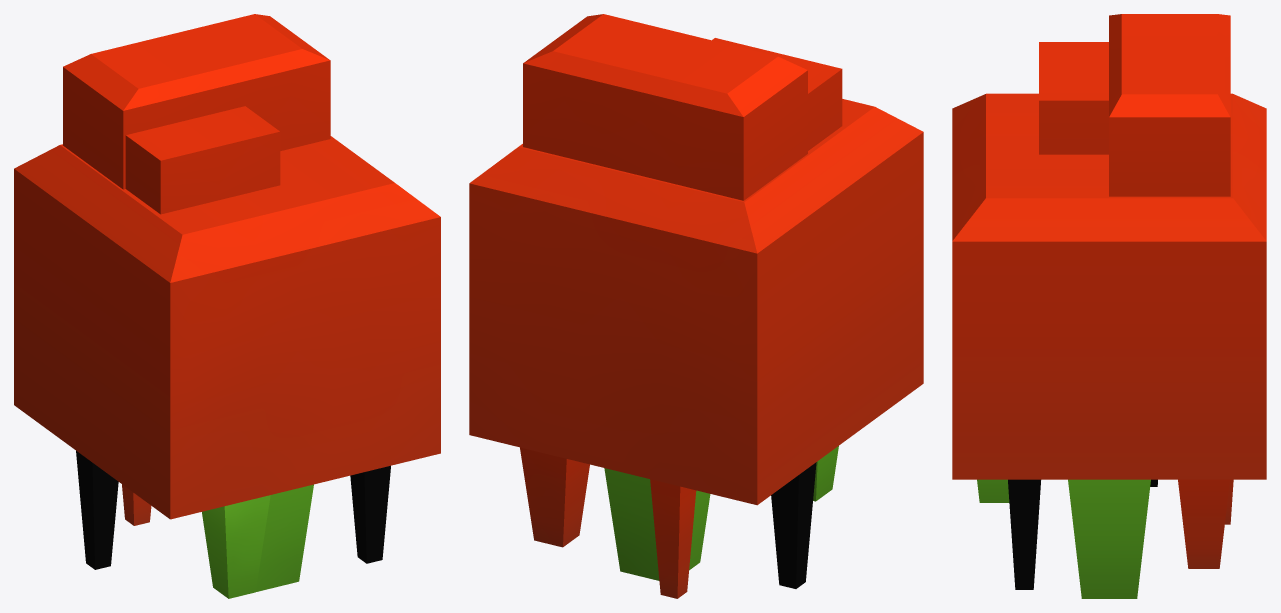
The model's file is Boss(2)Puñetazo.fbx.
The picture shows the model from 3 angles, left to right: view 1: azimuth 30°, elevation 25°; view 2: azimuth 150°, elevation 25°; view 3: azimuth 270°, elevation 25°; orthographic projection. The views are drawn at different scales.
Visible parts, largest first — view 1: Cube; view 2: Cube; view 3: Cube.
Boxes of the visible parts, <box> form: Cube: <box>14,14,440,598</box>; Cube: <box>469,14,923,598</box>; Cube: <box>952,14,1266,598</box>.
Bounding box in the file's own units: 266 × 481 × 266.
